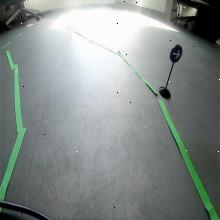right: (169, 43, 183, 64)
